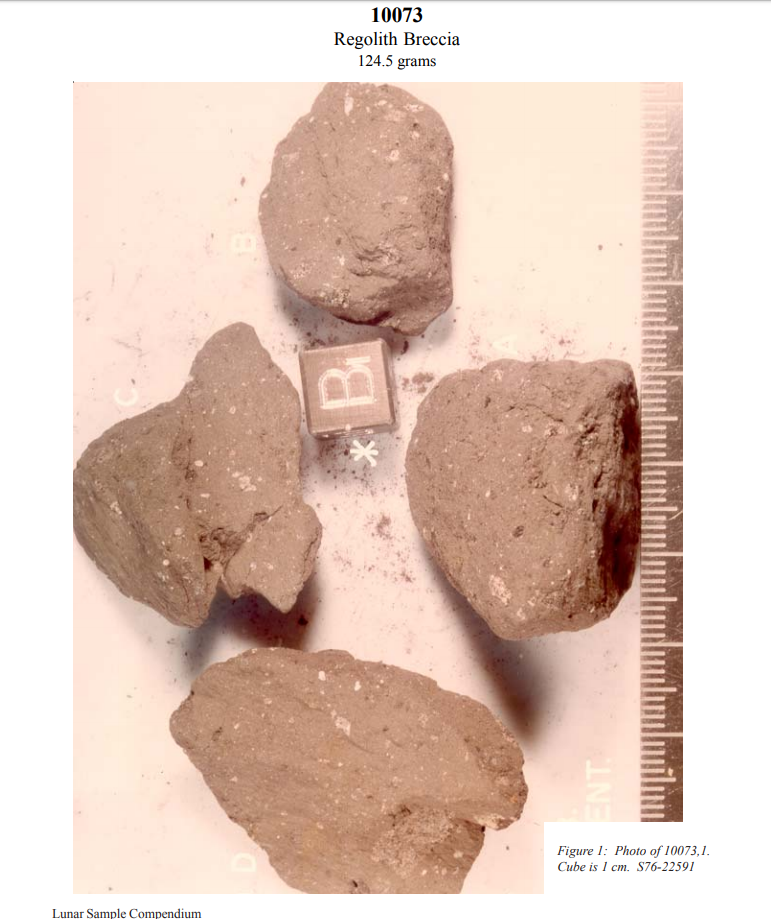Breccia: (166, 639, 478, 918), (66, 344, 311, 666), (425, 419, 671, 660), (251, 93, 484, 346)
